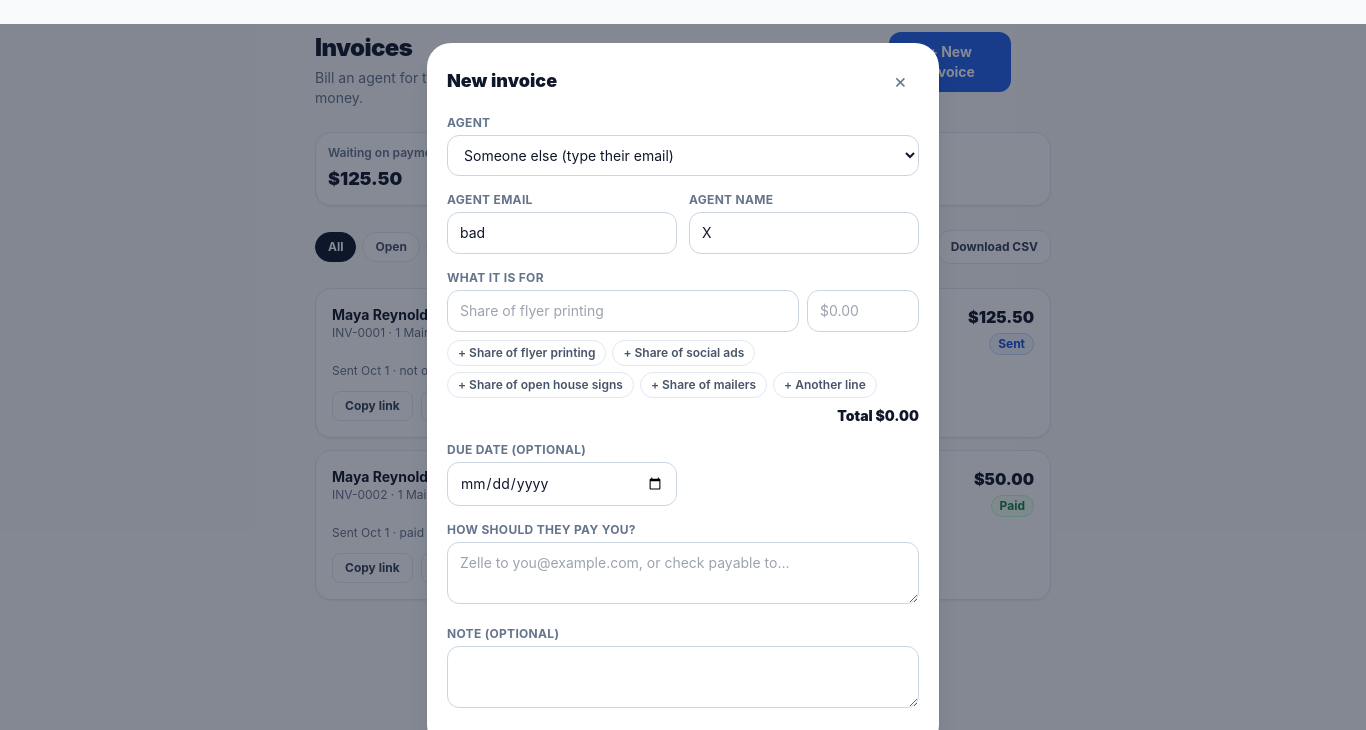
Test: LOInvoicesPage › shows a plain error when the server refuses the invoice
In the field named "Line 1 description": (623,311) left=447, top=290, right=799, bottom=332, type "x"
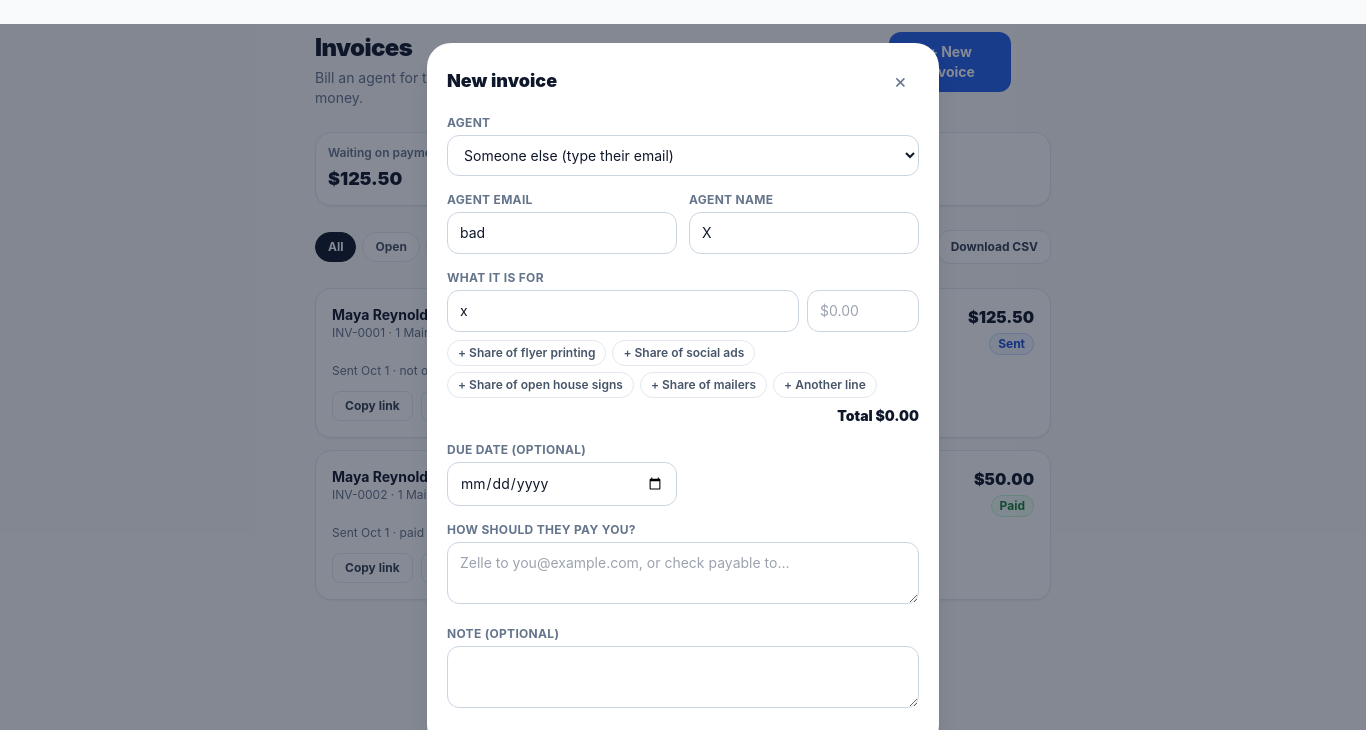
In the field named "Line 1 amount": (863,311) left=807, top=290, right=919, bottom=332, type "5"
(page scrolled)
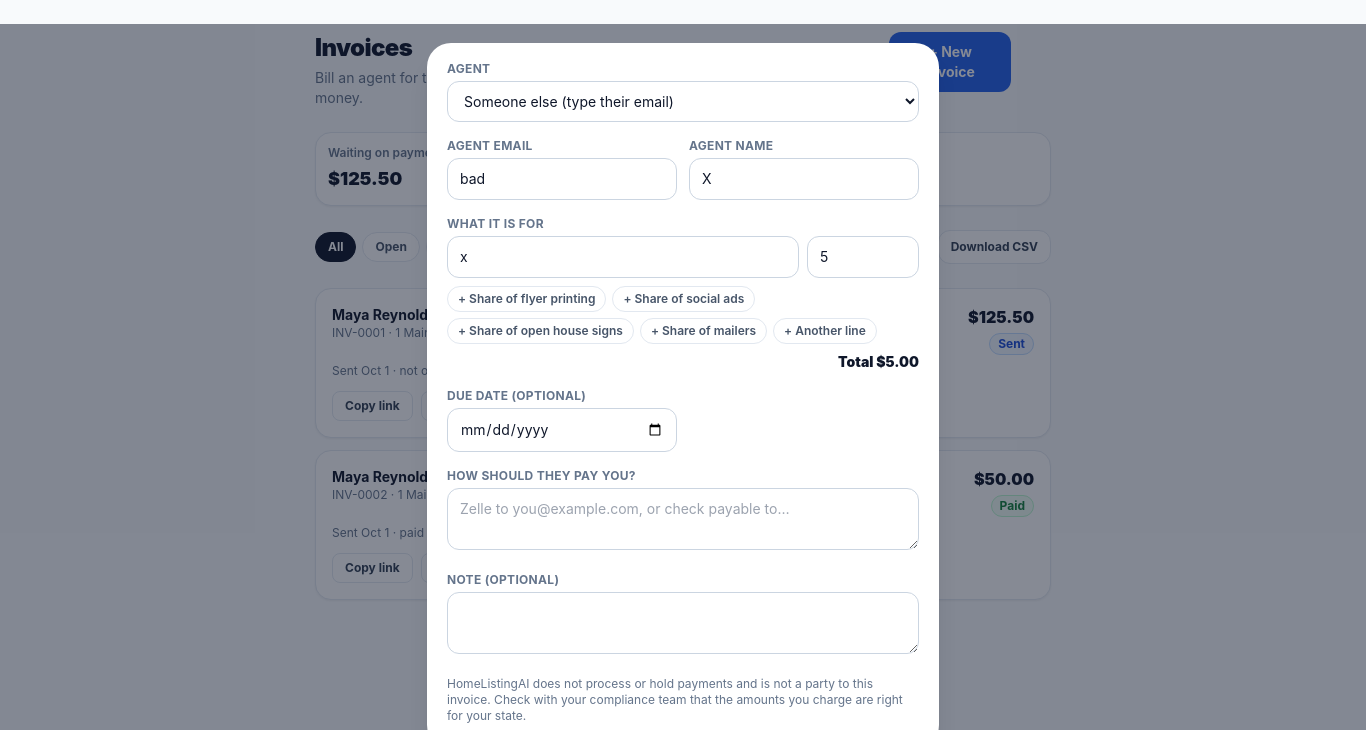
Submit the form named "send invoice"
(page scrolled)
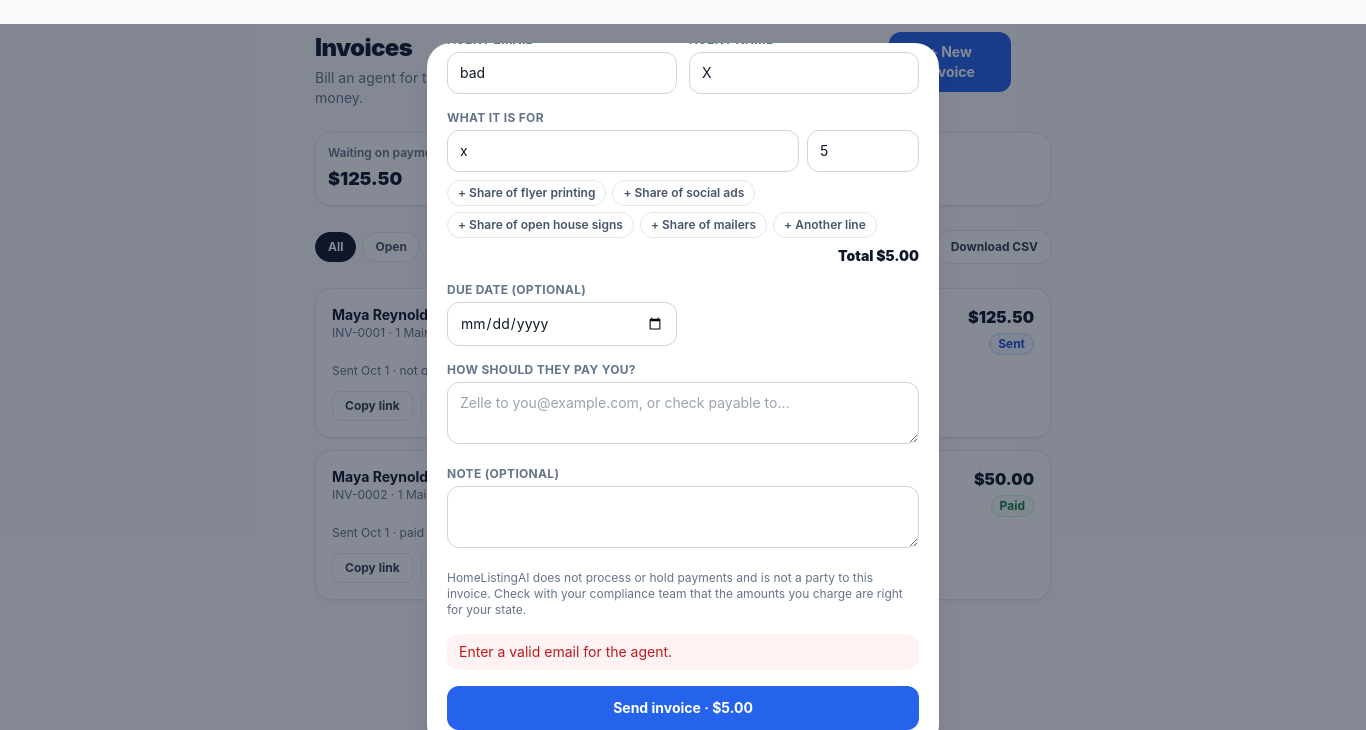
Now the message reads "Enter a valid email for the agent.", box left=459, top=643, right=672, bottom=660
